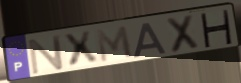A: (132, 21, 170, 60)
H: (199, 9, 234, 48)
M: (94, 24, 135, 65)
N: (27, 33, 66, 76)
X: (61, 29, 101, 70), (164, 13, 201, 55)
